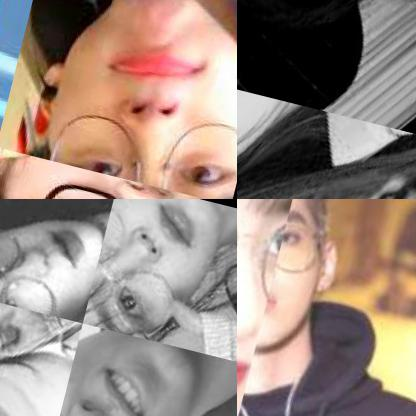Glasses: (237, 199, 295, 352), (268, 214, 339, 308)
glasses: (39, 76, 236, 198), (82, 199, 227, 350), (0, 199, 106, 323), (237, 84, 290, 198), (10, 172, 226, 198), (237, 0, 403, 31), (28, 378, 148, 415)
